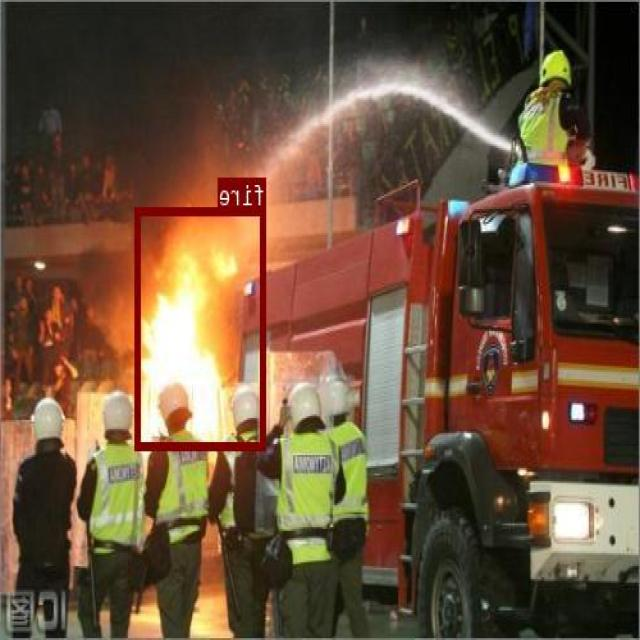fire: (136, 206, 267, 449)
